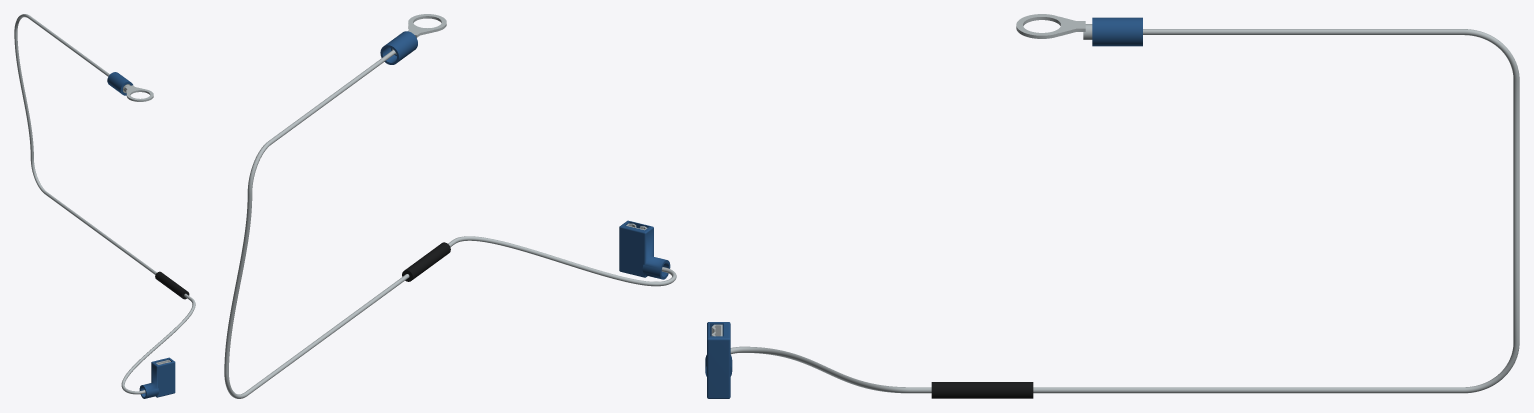
The model's file is onset_u30_ground_lead_candidate.glb.
The picture shows the model from 3 angles, left to right: view 1: azimuth 30°, elevation 25°; view 2: azimuth 150°, elevation 25°; view 3: azimuth 270°, elevation 25°; orthographic projection. The views are drawn at different scales.
Visible parts, largest first — view 1: continuous_ground_conductor, flag_nylon_housing, black_gland_sleeve, ring_nylon_housing, ring_tin_copper_stamp; view 2: continuous_ground_conductor, flag_nylon_housing, ring_nylon_housing, black_gland_sleeve, ring_tin_copper_stamp; view 3: continuous_ground_conductor, flag_nylon_housing, black_gland_sleeve, ring_nylon_housing, ring_tin_copper_stamp.
Boxes of the visible parts, <box> form: continuous_ground_conductor: <box>14,14,195,394</box>; flag_nylon_housing: <box>139,357,175,398</box>; black_gland_sleeve: <box>155,271,189,299</box>; ring_nylon_housing: <box>107,72,132,95</box>; ring_tin_copper_stamp: <box>123,84,153,101</box>; continuous_ground_conductor: <box>224,50,676,398</box>; flag_nylon_housing: <box>619,220,670,279</box>; ring_nylon_housing: <box>380,31,417,64</box>; black_gland_sleeve: <box>402,242,450,281</box>; ring_tin_copper_stamp: <box>408,14,446,37</box>; continuous_ground_conductor: <box>730,29,1519,393</box>; flag_nylon_housing: <box>705,322,732,398</box>; black_gland_sleeve: <box>931,382,1033,398</box>; ring_nylon_housing: <box>1092,17,1142,46</box>; ring_tin_copper_stamp: <box>1016,14,1092,39</box>.
Bounding box in the file's own units: 0.0571 × 0.1074 × 0.1846.
